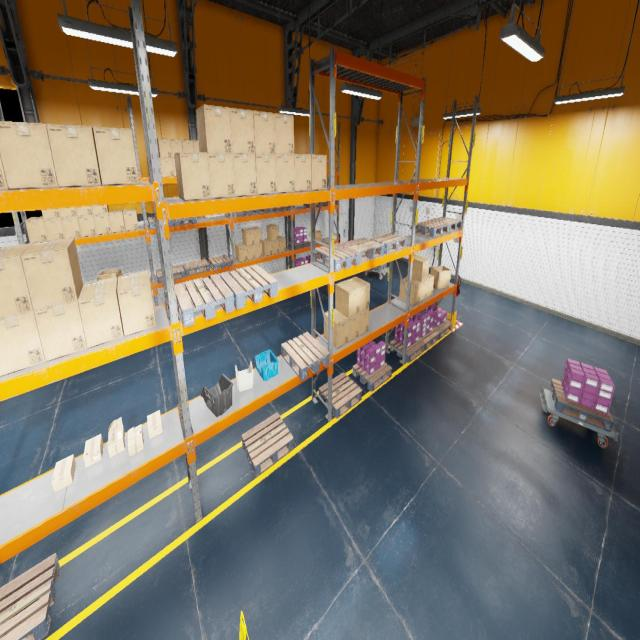box: (21, 238, 83, 310), (34, 286, 87, 362), (0, 121, 58, 189), (46, 124, 102, 187), (78, 277, 123, 348), (0, 310, 45, 376), (93, 126, 139, 185), (117, 270, 156, 336), (0, 242, 33, 318), (174, 152, 211, 200), (196, 104, 232, 153), (208, 153, 235, 198), (230, 108, 255, 154), (253, 110, 276, 154), (232, 154, 256, 196), (324, 308, 348, 349), (51, 454, 76, 492), (335, 280, 360, 317), (255, 154, 277, 194), (346, 277, 370, 312), (274, 113, 294, 154), (276, 154, 295, 193), (107, 417, 125, 458), (83, 433, 103, 468), (294, 154, 311, 191), (25, 216, 48, 243), (339, 311, 359, 342), (399, 277, 421, 305), (408, 255, 430, 281), (311, 155, 327, 190), (127, 424, 144, 456), (43, 218, 65, 241), (430, 266, 451, 289), (61, 216, 81, 238), (147, 410, 162, 439), (78, 214, 96, 237), (93, 213, 111, 235), (108, 210, 125, 233), (412, 278, 428, 302), (0, 153, 9, 190), (123, 208, 138, 230), (157, 138, 172, 158), (359, 308, 369, 336), (147, 158, 162, 176), (160, 158, 174, 177), (98, 269, 122, 280), (170, 138, 183, 158), (235, 243, 247, 262), (266, 224, 278, 241), (250, 227, 262, 244), (242, 228, 254, 245), (41, 208, 61, 218), (426, 274, 434, 298), (59, 208, 77, 218), (262, 239, 272, 256), (76, 206, 93, 216), (182, 139, 194, 152), (92, 205, 109, 214), (310, 230, 321, 243), (269, 240, 279, 254), (278, 236, 286, 252), (247, 245, 255, 260), (255, 243, 262, 258), (172, 158, 176, 177), (193, 140, 199, 152)
pallets: (0, 553, 60, 639), (550, 379, 614, 432), (242, 412, 293, 477), (175, 275, 234, 327), (220, 265, 277, 309), (281, 332, 329, 380), (319, 372, 362, 418), (316, 243, 360, 271), (352, 362, 392, 392), (339, 238, 384, 262), (370, 233, 407, 254), (390, 340, 424, 362), (415, 220, 449, 236), (156, 265, 184, 283), (429, 217, 462, 232), (416, 329, 439, 350), (182, 259, 210, 276), (208, 254, 232, 270), (431, 321, 452, 339), (147, 217, 174, 229), (173, 217, 197, 226), (288, 240, 310, 249), (228, 210, 250, 218), (269, 206, 287, 213), (371, 263, 386, 271), (250, 209, 269, 215), (302, 202, 324, 206), (324, 200, 337, 204)
